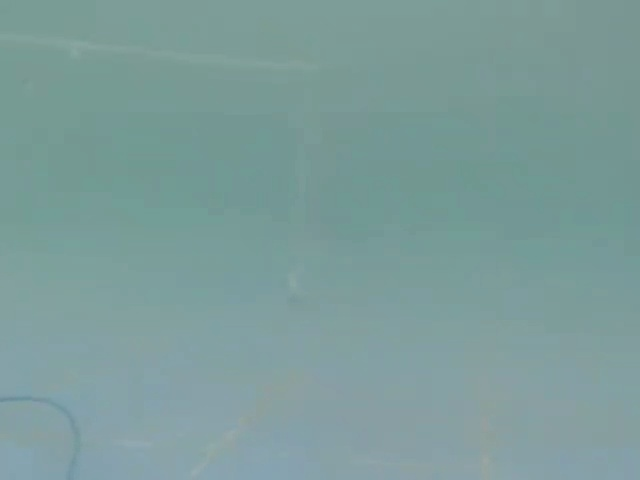gate: (0, 11, 317, 312)
